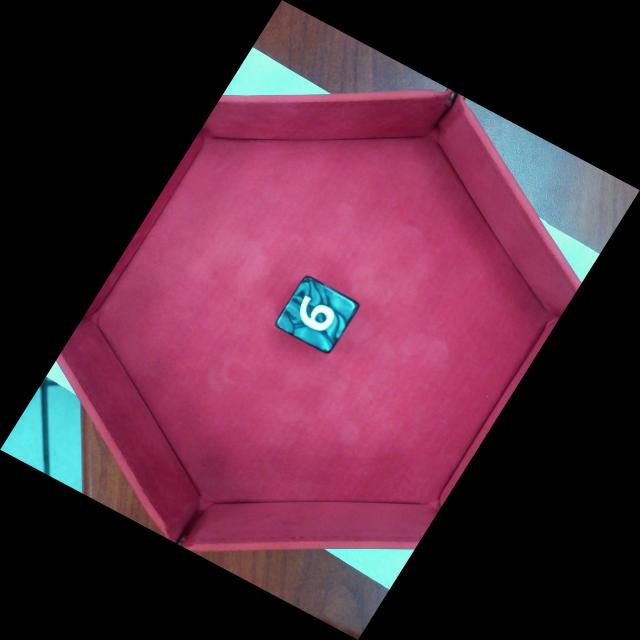dice: (270, 273, 362, 357)
